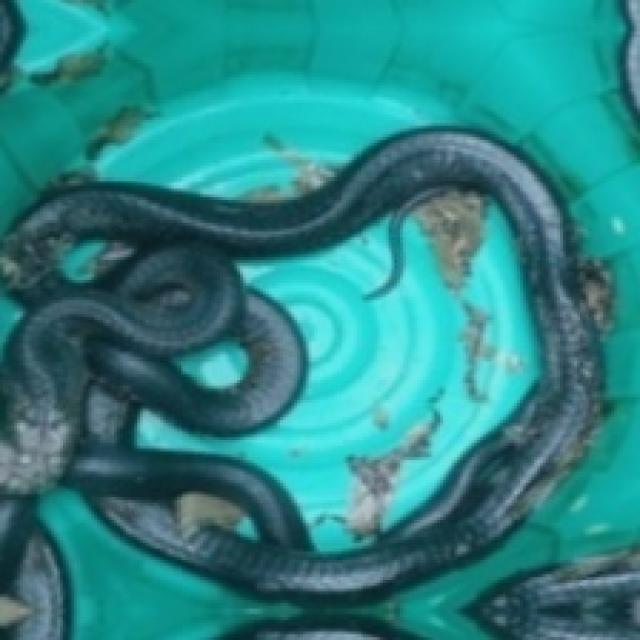king cobra: (0, 129, 597, 597)
